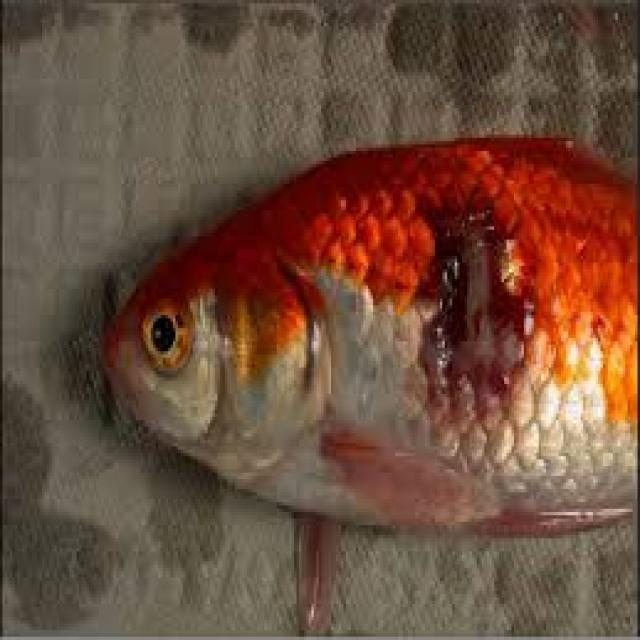EUS Disease: (98, 138, 630, 536), (347, 139, 590, 540)
